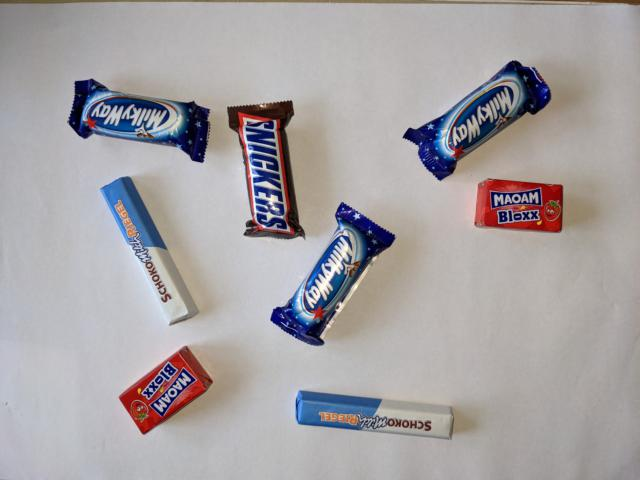MAOAM: (116, 343, 215, 438), (471, 176, 567, 237)
MilkyWay: (267, 198, 400, 350), (399, 57, 555, 184), (63, 76, 214, 164)
Schokoriegel: (97, 173, 203, 329), (291, 386, 458, 444)
Snickers: (225, 98, 308, 245)
